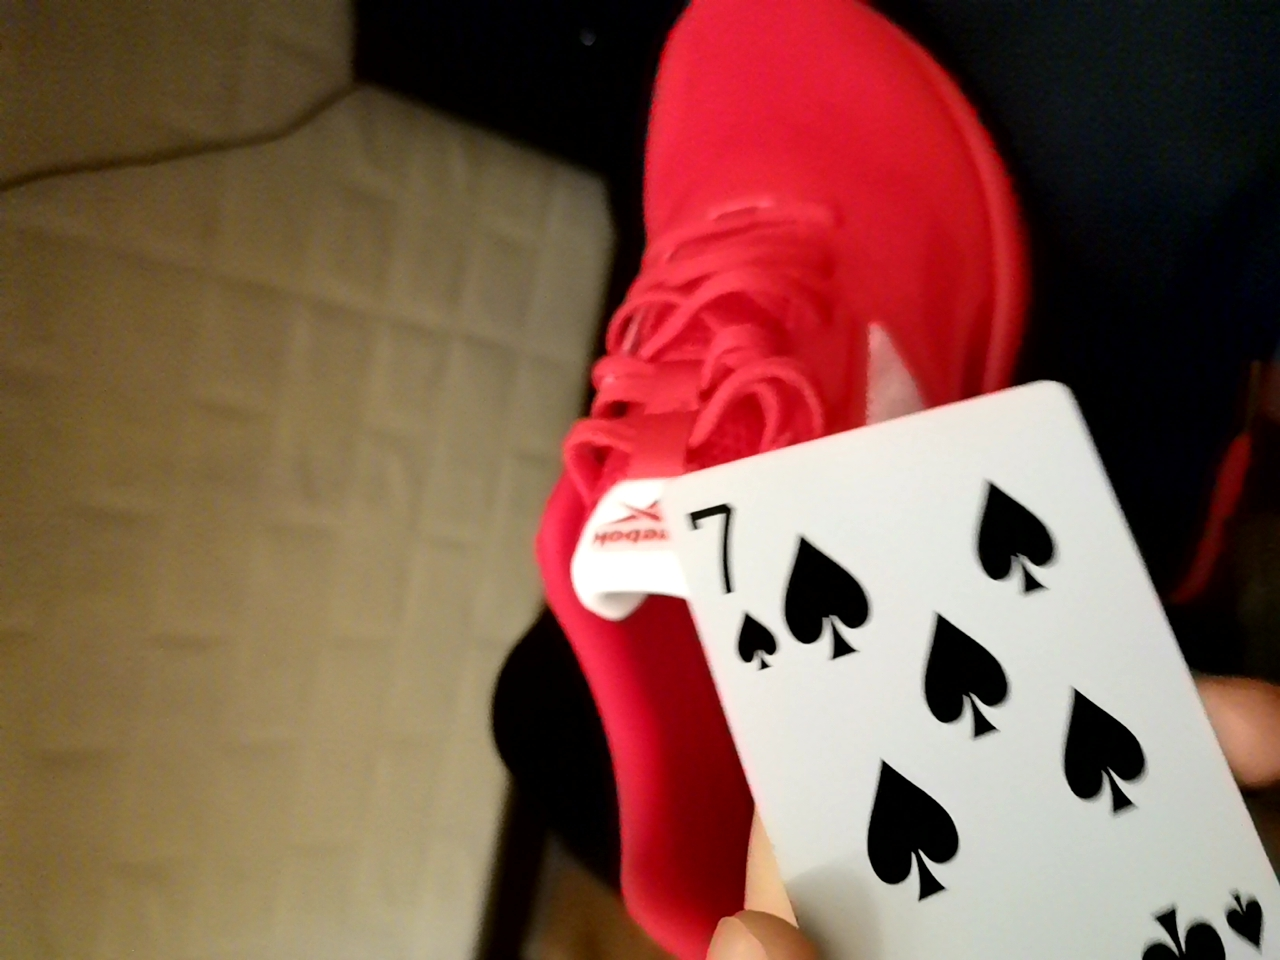ht 7: (619, 392, 1276, 960)
